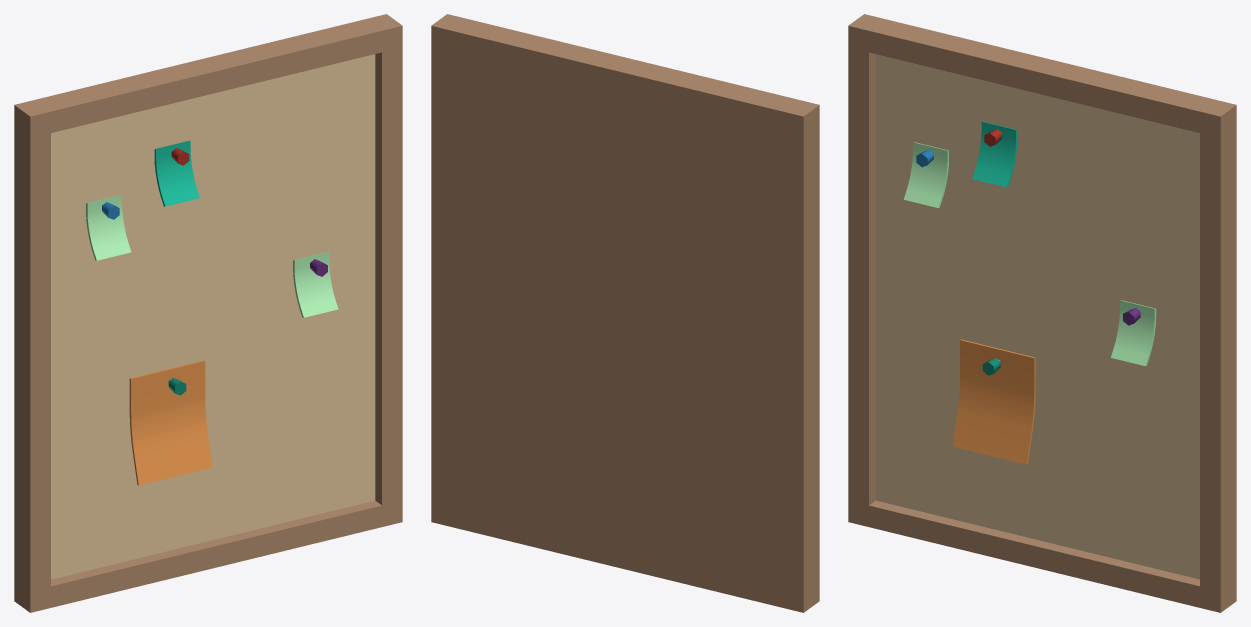
Rendered from Board.fbx.
The picture shows the model from 3 angles, left to right: view 1: azimuth 30°, elevation 25°; view 2: azimuth 150°, elevation 25°; view 3: azimuth 330°, elevation 25°; orthographic projection.
Visible parts, largest first — view 1: Board, Papper-3, Papper-2, Papper-4, Papper-1; view 2: Board; view 3: Board, Papper-3, Papper-4, Papper-2, Papper-1.
Boxes of the visible parts, left/top/right/bottom form: Board: left=14, top=14, right=402, bottom=612; Papper-3: left=129, top=360, right=212, bottom=485; Papper-2: left=293, top=252, right=338, bottom=317; Papper-4: left=154, top=140, right=199, bottom=206; Papper-1: left=86, top=195, right=131, bottom=260; Board: left=431, top=14, right=819, bottom=612; Board: left=848, top=14, right=1236, bottom=612; Papper-3: left=952, top=339, right=1035, bottom=464; Papper-4: left=972, top=121, right=1017, bottom=187; Papper-2: left=1111, top=300, right=1156, bottom=366; Papper-1: left=903, top=142, right=948, bottom=207.
Bounding box in the file's own units: 1.05 × 1.34 × 0.1071.
